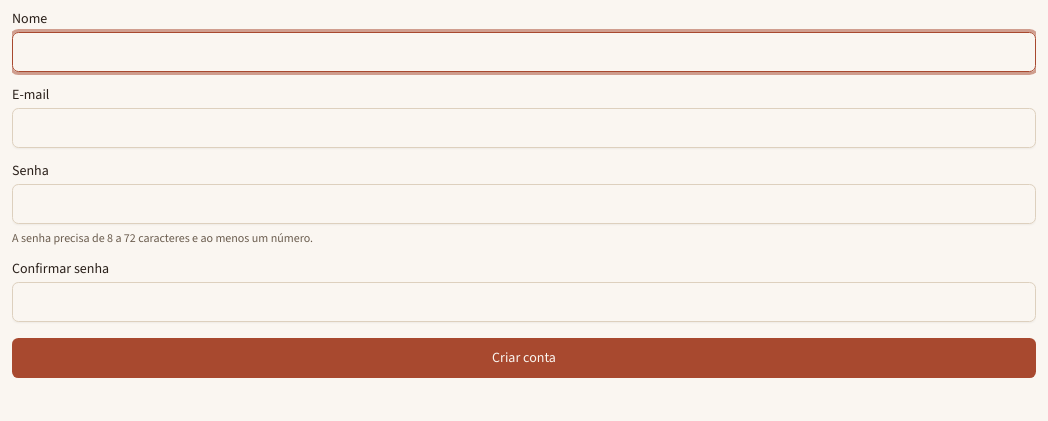
Test: RegisterForm › catches a mistyped confirmation, since the API has no password reset
Step 1. Type "Ana Leitora" into the field labelled "Nome" → (524, 52), box [12,32,1036,72]
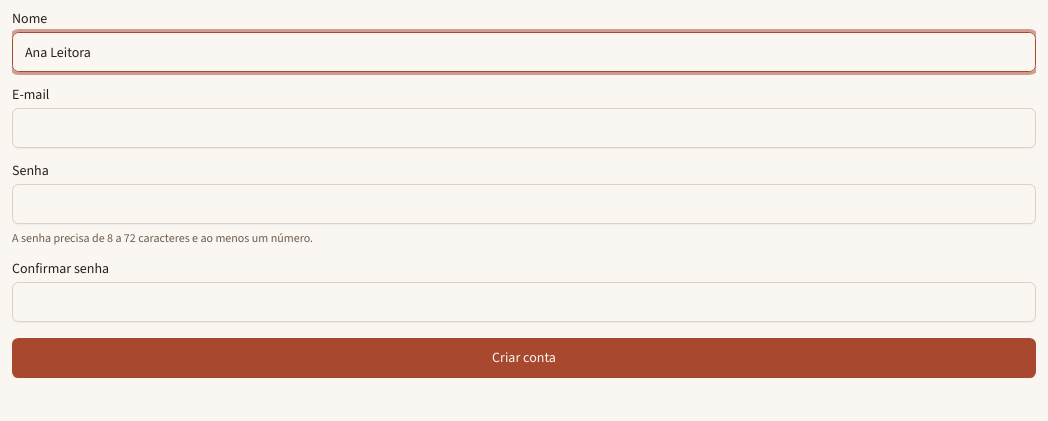
Step 2. Type "ana@bookland.com" into the field labelled "E-mail" → (524, 128), box [12,108,1036,148]
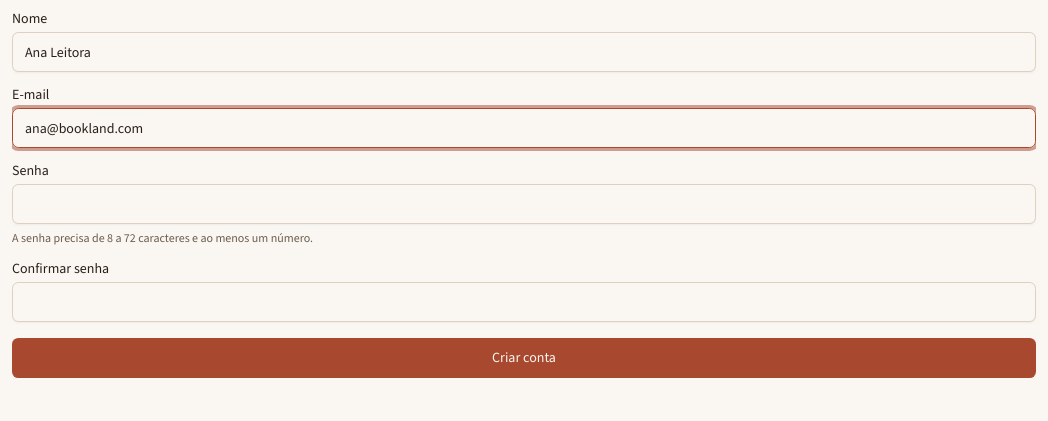
Step 3. Type "senha1234" into the password field labelled "Senha" → (524, 204), box [12,184,1036,224]
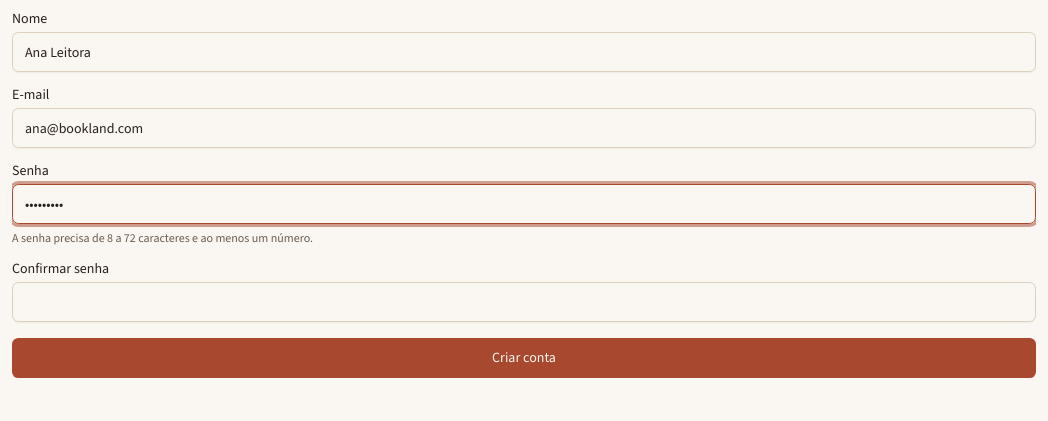
Step 4. Type "senha12345" into the password field labelled "Confirmar senha" → (524, 302), box [12,282,1036,322]
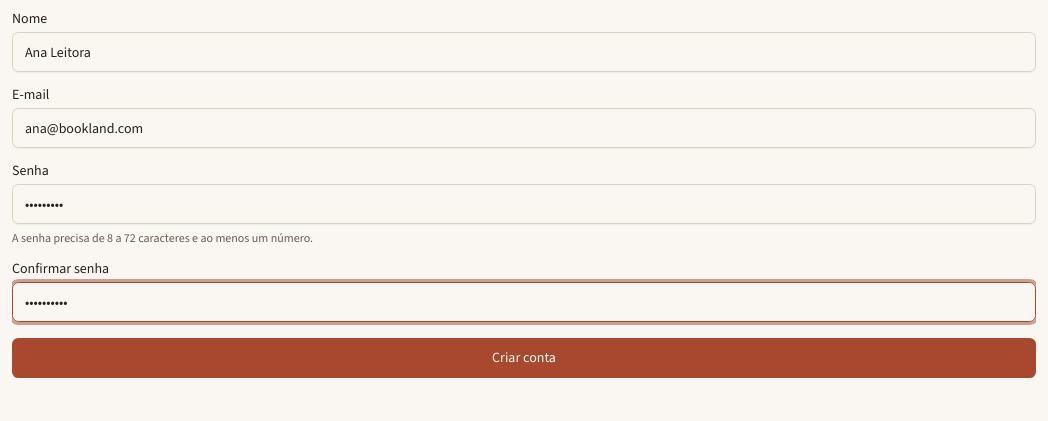
Step 5. Click the button "Criar conta" → (524, 358), box [12,338,1036,378]
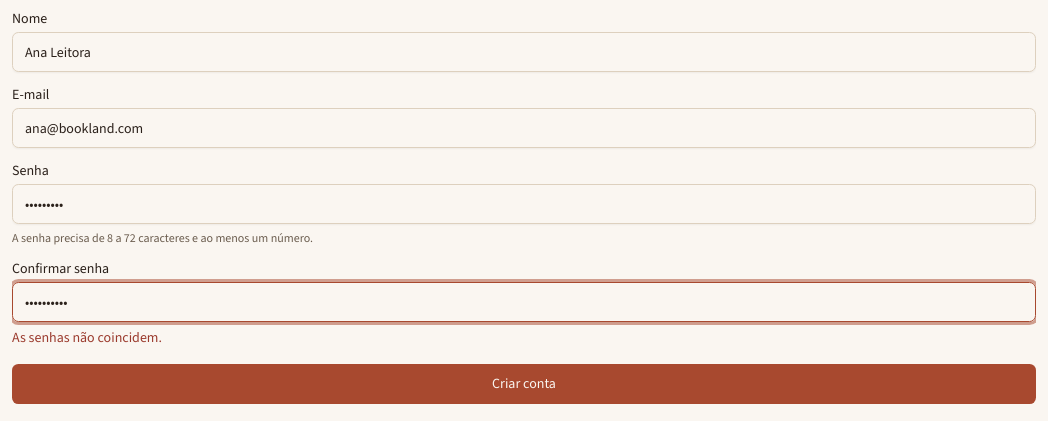
Now the text "As senhas não coincidem." is shown, box [12,328,162,347]
